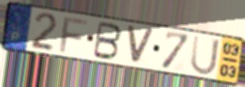2: (30, 11, 59, 53)
7: (161, 30, 191, 71)
B: (91, 20, 123, 61)
F: (58, 15, 90, 55)
U: (190, 34, 222, 77)
V: (125, 24, 156, 66)
